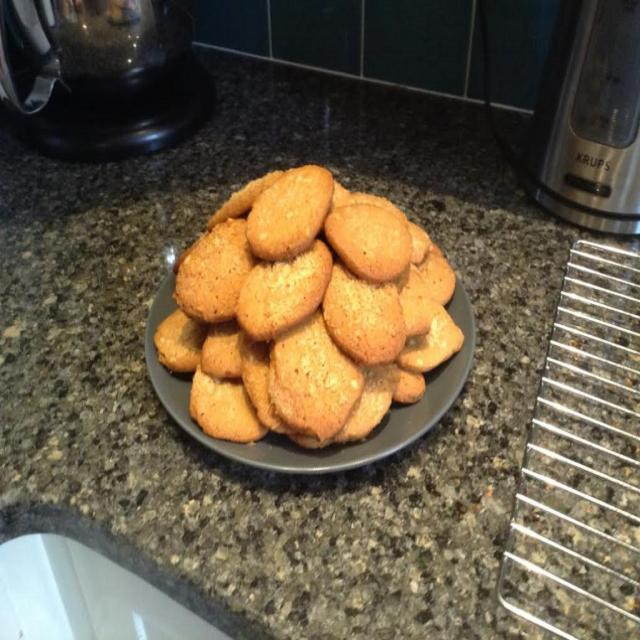Cookie: (152, 158, 469, 451)
